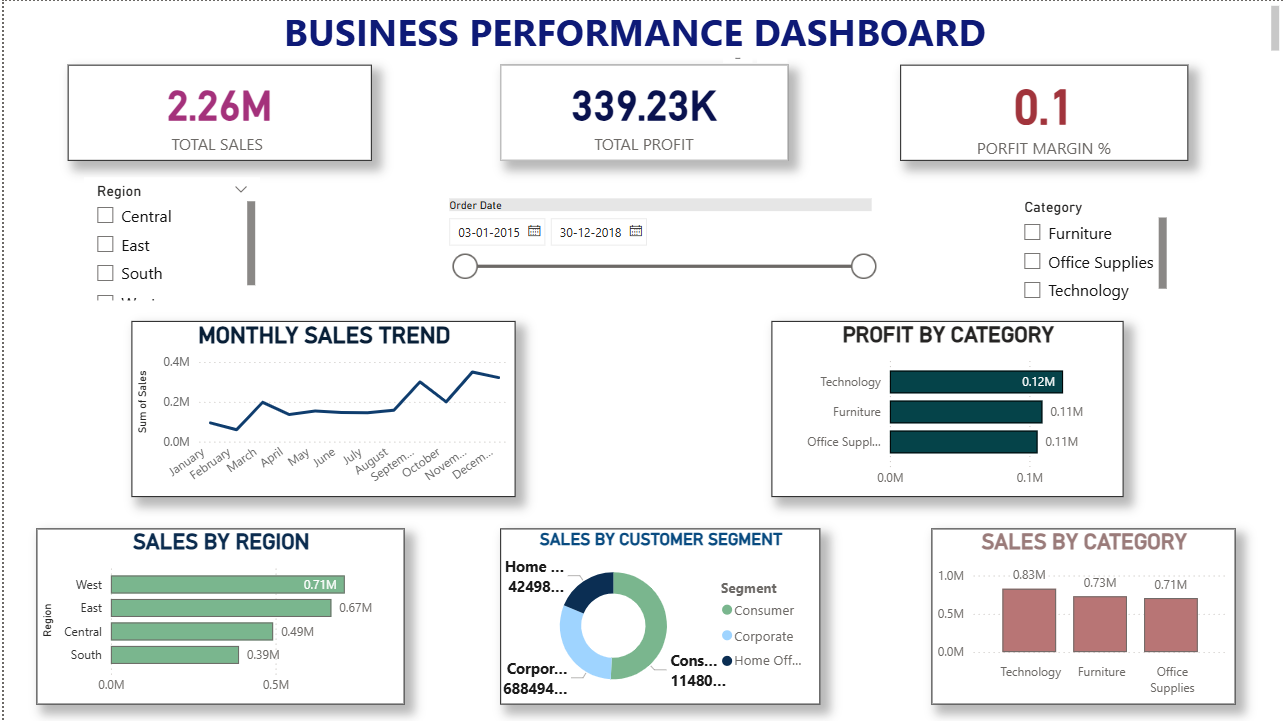

What the dashboard file says about the page in this screenshot:
{"tool":"powerbi","page":{"name":"Page 1","canvas":[1280,720],"ordinal":0},"visuals":[{"type":"card","fields":{"Values":["Sum(train.Sales)"]},"box":[64,64,304,96],"z":0},{"type":"card","fields":{"Values":["Sum(train.Profit)"]},"box":[496,64,288,96],"z":1000},{"type":"card","fields":{"Values":["train.Profit Margin %"]},"box":[896,64,288,96],"z":2000},{"type":"lineChart","title":"MONTHLY SALES TREND","fields":{"Category":["train.Order Date.Variation.Date Hierarchy.Month"],"Y":["Sum(train.Sales)"]},"box":[128,320,384,176],"z":3000},{"type":"clusteredBarChart","title":"PROFIT BY CATEGORY","fields":{"Category":["train.Category"],"Y":["Sum(train.Profit)"]},"box":[768,320,352,176],"z":4000},{"type":"clusteredBarChart","title":"SALES BY REGION ","fields":{"Category":["train.Region"],"Y":["Sum(train.Sales)"]},"box":[32,528,368,176],"z":5000},{"type":"donutChart","title":"SALES BY CUSTOMER SEGMENT","fields":{"Category":["train.Segment"],"Y":["Sum(train.Sales)"]},"box":[496,528,320,176],"z":6000},{"type":"clusteredColumnChart","title":"SALES BY CATEGORY","fields":{"Y":["Sum(train.Sales)"],"Category":["train.Category"]},"box":[928,528,304,176],"z":7000},{"type":"slicer","fields":{"Values":["train.Order Date"]},"box":[432,192,448,112],"z":8000},{"type":"slicer","fields":{"Values":["train.Region"]},"box":[80,176,176,128],"z":9000},{"type":"slicer","fields":{"Values":["train.Category"]},"box":[1008,192,160,112],"z":10000},{"type":"textbox","box":[0,0,1280,57],"z":11000}]}

Visuals, with their boxes in screenshot pixels (x1, y1, x2, y2), scaled from the page's 1280x720 canvas onto the 1284x721 screenshot:
card - Sum(train.Sales): l=64, t=64, r=369, b=160
card - Sum(train.Profit): l=498, t=64, r=786, b=160
card - train.Profit Margin %: l=899, t=64, r=1188, b=160
"MONTHLY SALES TREND" lineChart: l=128, t=320, r=514, b=497
"PROFIT BY CATEGORY" clusteredBarChart: l=770, t=320, r=1124, b=497
"SALES BY REGION " clusteredBarChart: l=32, t=529, r=401, b=705
"SALES BY CUSTOMER SEGMENT" donutChart: l=498, t=529, r=819, b=705
"SALES BY CATEGORY" clusteredColumnChart: l=931, t=529, r=1236, b=705
slicer - train.Order Date: l=433, t=192, r=883, b=304
slicer - train.Region: l=80, t=176, r=257, b=304
slicer - train.Category: l=1011, t=192, r=1172, b=304
textbox: l=0, t=0, r=1283, b=57
